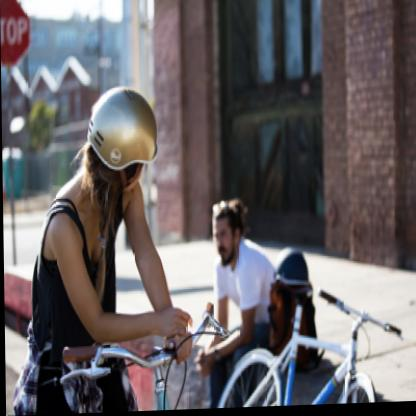With Helmet: (89, 75, 160, 202)
